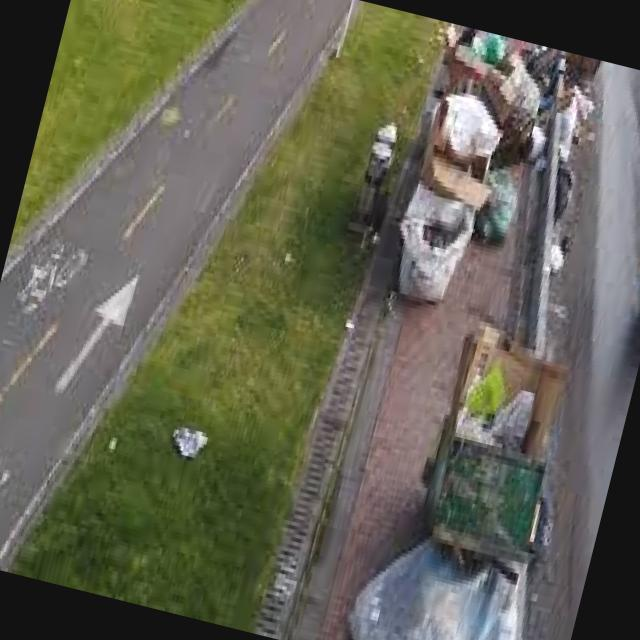garbage: (315, 7, 634, 336), (337, 322, 607, 640)
